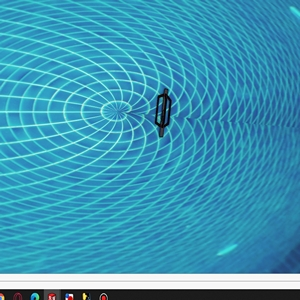submarine: (153, 87, 172, 138)
